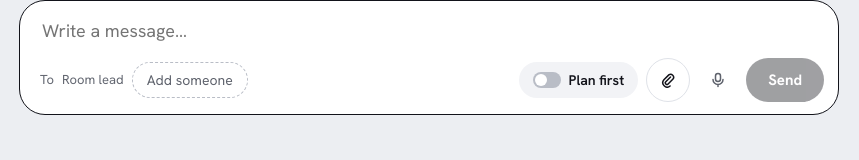
Test: a mention request writes "@id " at the caret and focuses the composer
In the dropdown named "Message general": x=432, y=30 [40,15,824,46], type "ask for a review"
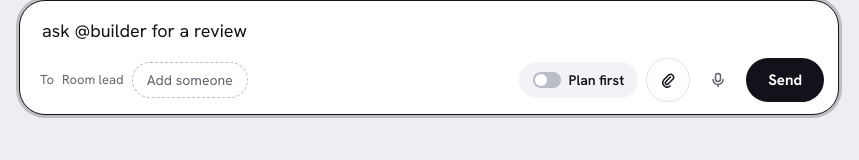
Check: the dropdown named "Message general" holds "ask @builder for a review", box [40,15,824,46]
